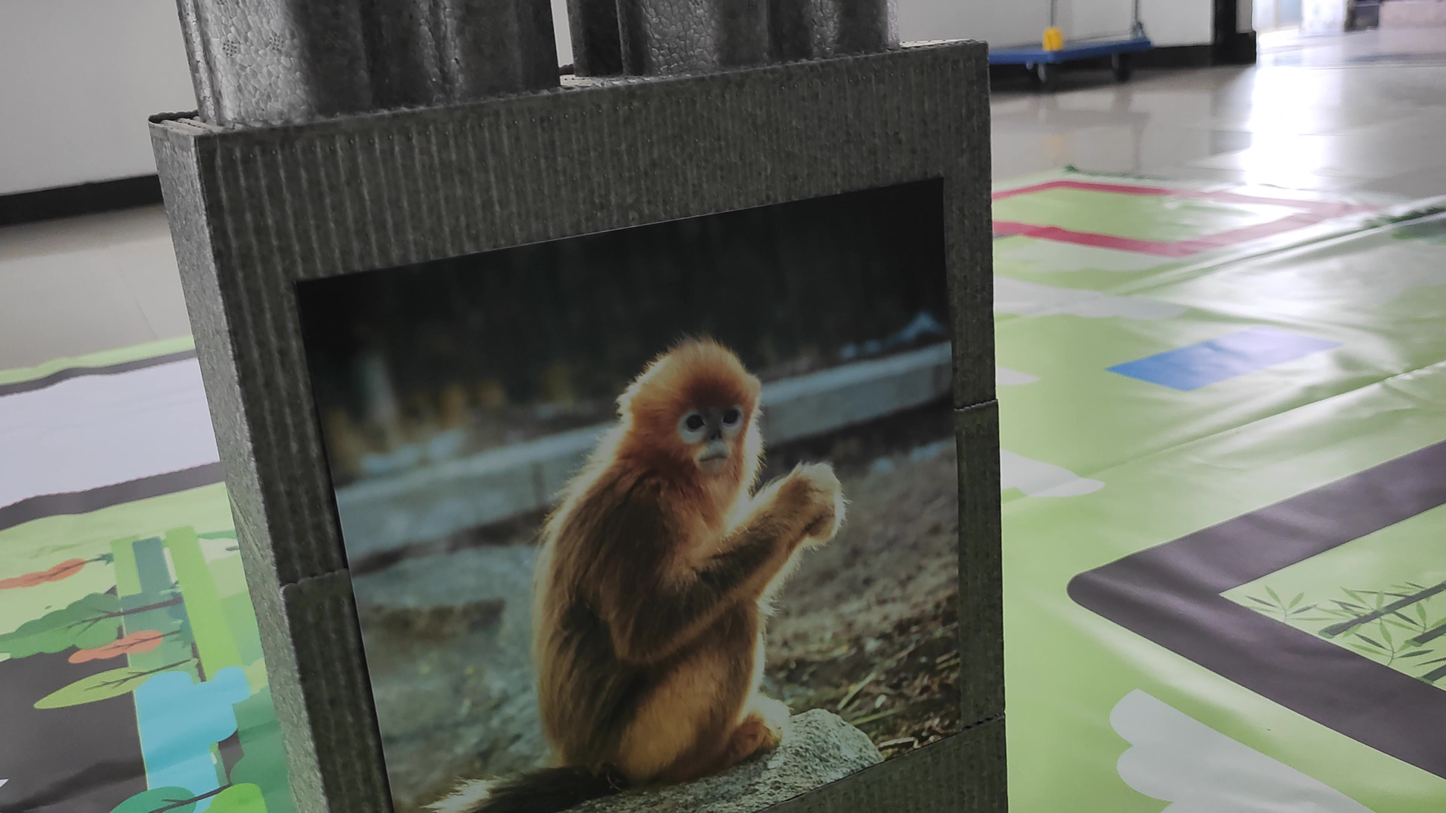monkey: (474, 329, 879, 813)
